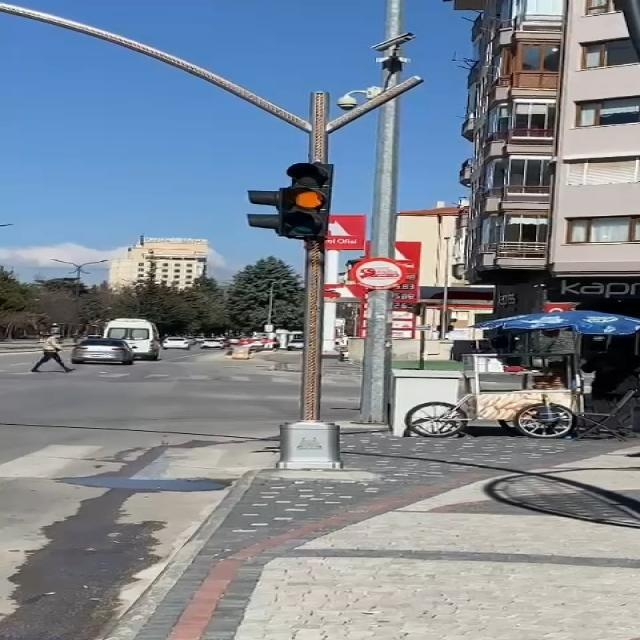sari: (247, 162, 334, 240)
